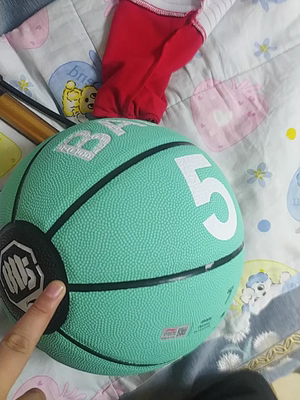ball: (1, 118, 244, 376)
